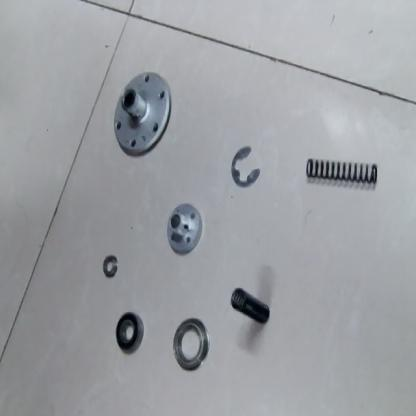FOD: (108, 67, 175, 157), (300, 152, 386, 188), (171, 316, 210, 376), (164, 200, 204, 258), (230, 285, 281, 328), (228, 144, 262, 191), (114, 308, 146, 357), (100, 250, 122, 282)
